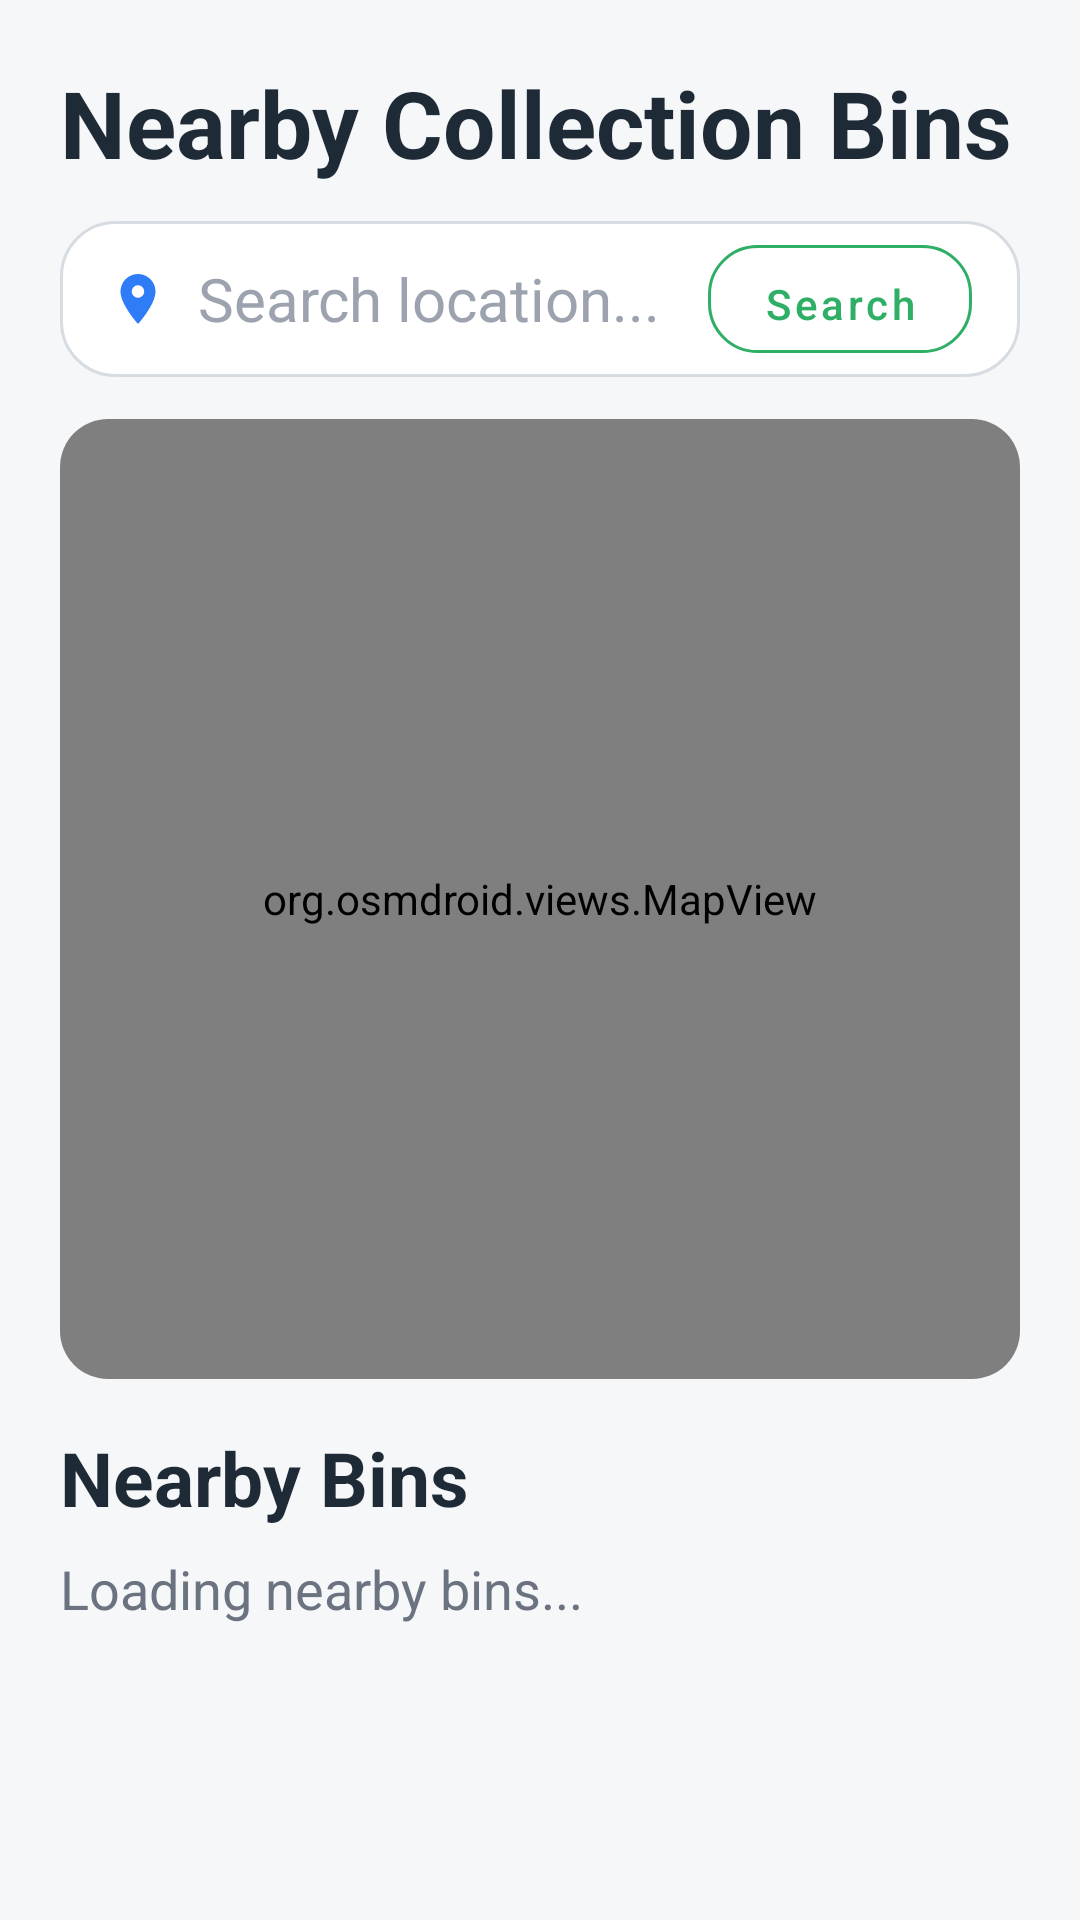

Where icons sit on this 1080px x 1920px app screen, as (x1, y1, x2, y2):
pin: (120, 274, 156, 324)
